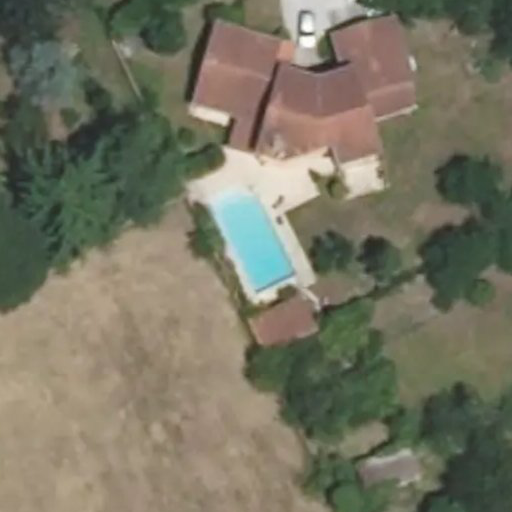pool: (214, 211, 297, 273)
